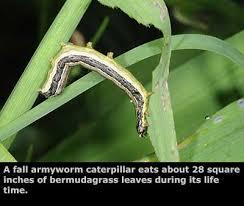fallarmy_worm: (47, 40, 163, 150)
